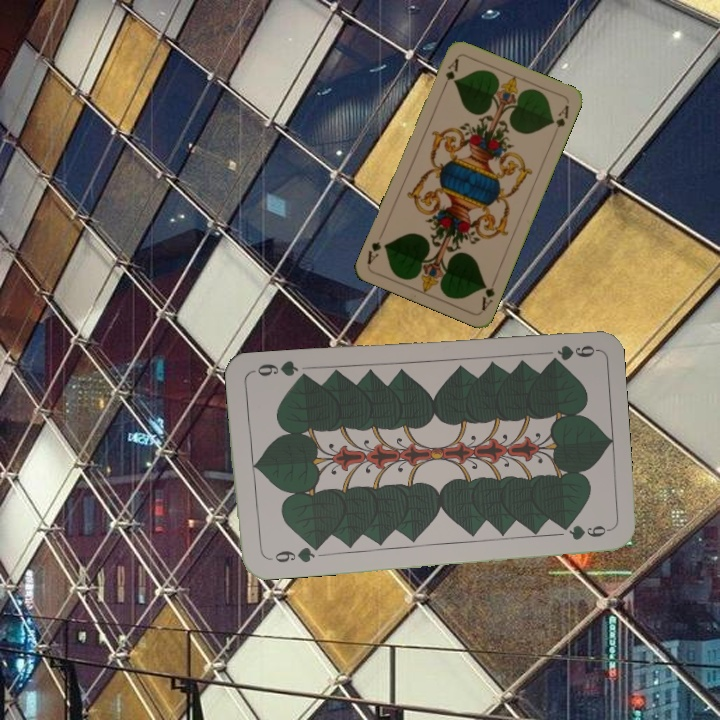G9: (262, 541, 321, 565), (545, 341, 598, 365)
GA: (477, 275, 499, 314), (439, 54, 461, 93)
